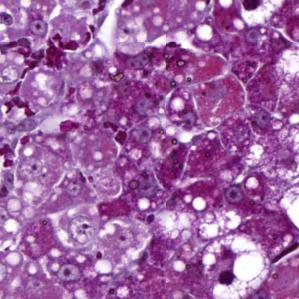ballooning: (199, 233, 271, 297), (236, 1, 286, 30)
